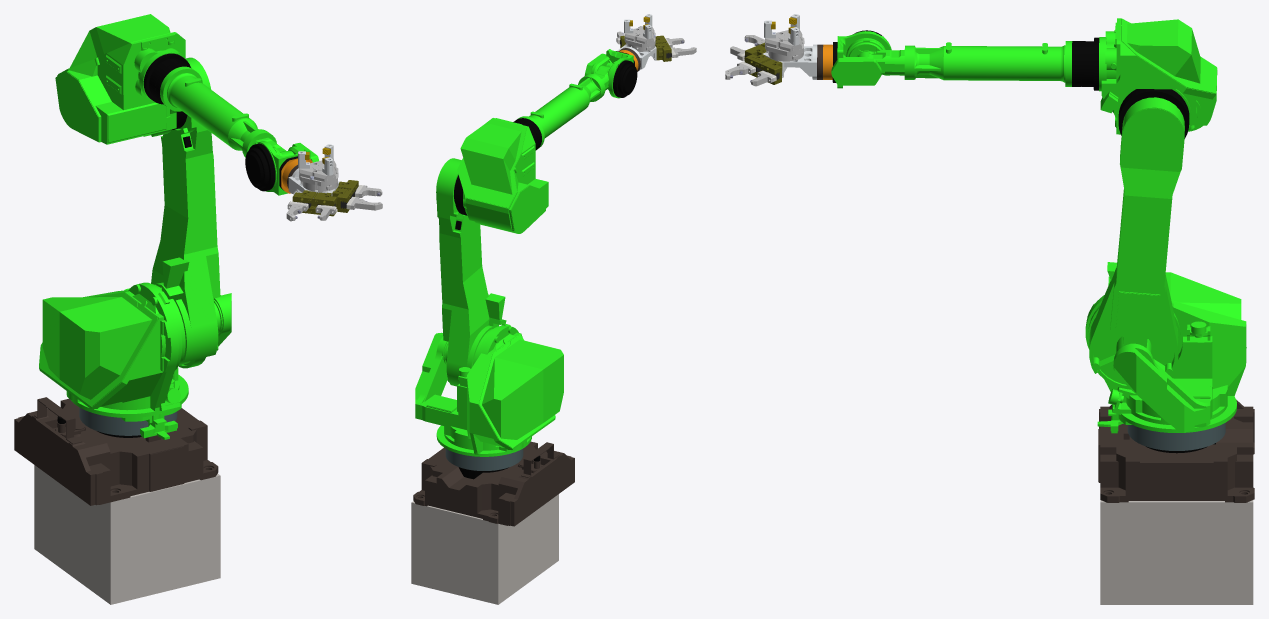
File: Robot_Arm.glb
3 renders of one model, left to right at view 1: azimuth 30°, elevation 25°; view 2: azimuth 150°, elevation 25°; view 3: azimuth 270°, elevation 25°, orthographic. The views are drawn at different scales.
Visible parts, largest first — view 1: RA_Static_Bodies, RA_J1_Bodies, RA_Base_Bodies, RA_J3_Bodies, RA_J2_Bodies, RA_J4_Bodies, RA_J5_Bodies, Face-0[4], Face-0[27], Face-0[37]; view 2: RA_J1_Bodies, RA_Static_Bodies, RA_Base_Bodies, RA_J3_Bodies, RA_J2_Bodies, RA_J4_Bodies, RA_J5_Bodies, Face-0[4]; view 3: RA_J2_Bodies, RA_Static_Bodies, RA_J1_Bodies, RA_Base_Bodies, RA_J3_Bodies, RA_J4_Bodies, RA_J5_Bodies, Face-0[4].
Part boxes in pixels (box(x1,y1,x2,y2)): RA_Static_Bodies: box(34, 465, 220, 604); RA_J1_Bodies: box(39, 282, 231, 439); RA_Base_Bodies: box(14, 397, 218, 505); RA_J3_Bodies: box(55, 14, 190, 144); RA_J2_Bodies: box(151, 57, 220, 368); RA_J4_Bodies: box(160, 66, 293, 191); RA_J5_Bodies: box(255, 141, 319, 195); Face-0[4]: box(299, 160, 338, 191); Face-0[27]: box(292, 190, 336, 216); Face-0[37]: box(332, 180, 358, 212); RA_J1_Bodies: box(415, 323, 563, 456); RA_Static_Bodies: box(411, 494, 558, 604); RA_Base_Bodies: box(413, 441, 574, 526); RA_J3_Bodies: box(455, 118, 548, 233); RA_J2_Bodies: box(436, 158, 506, 386); RA_J4_Bodies: box(518, 60, 637, 148); RA_J5_Bodies: box(584, 49, 638, 98); Face-0[4]: box(624, 27, 655, 51); RA_J2_Bodies: box(1089, 97, 1184, 389); RA_Static_Bodies: box(1100, 500, 1253, 604); RA_J1_Bodies: box(1085, 272, 1246, 433); RA_Base_Bodies: box(1098, 400, 1254, 502); RA_J3_Bodies: box(1072, 18, 1217, 138); RA_J4_Bodies: box(846, 30, 1072, 86); RA_J5_Bodies: box(823, 31, 891, 88); Face-0[4]: box(765, 30, 804, 61).
Size of the model in its own units: 0.6503 by 2.16 by 1.87.
